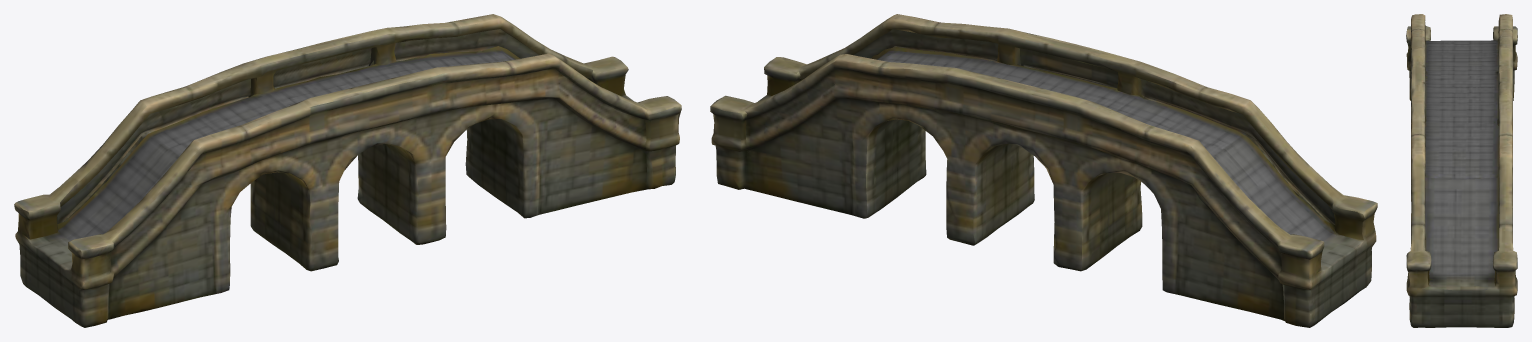
File: bridge_a.glb
3 views of the same model, side by side, from view 1: azimuth 30°, elevation 25°; view 2: azimuth 150°, elevation 25°; view 3: azimuth 270°, elevation 25° (orthographic). The views are drawn at different scales.
Visible parts, largest first — view 1: world; view 2: world; view 3: world.
Part boxes in pixels (bbox=[...]): world: bbox=[14, 14, 681, 327]; world: bbox=[710, 14, 1377, 327]; world: bbox=[1406, 14, 1517, 327].
Size of the model in its own units: 1 by 0.2685 by 0.1979.
Materials: 1 (1 with a texture image).
